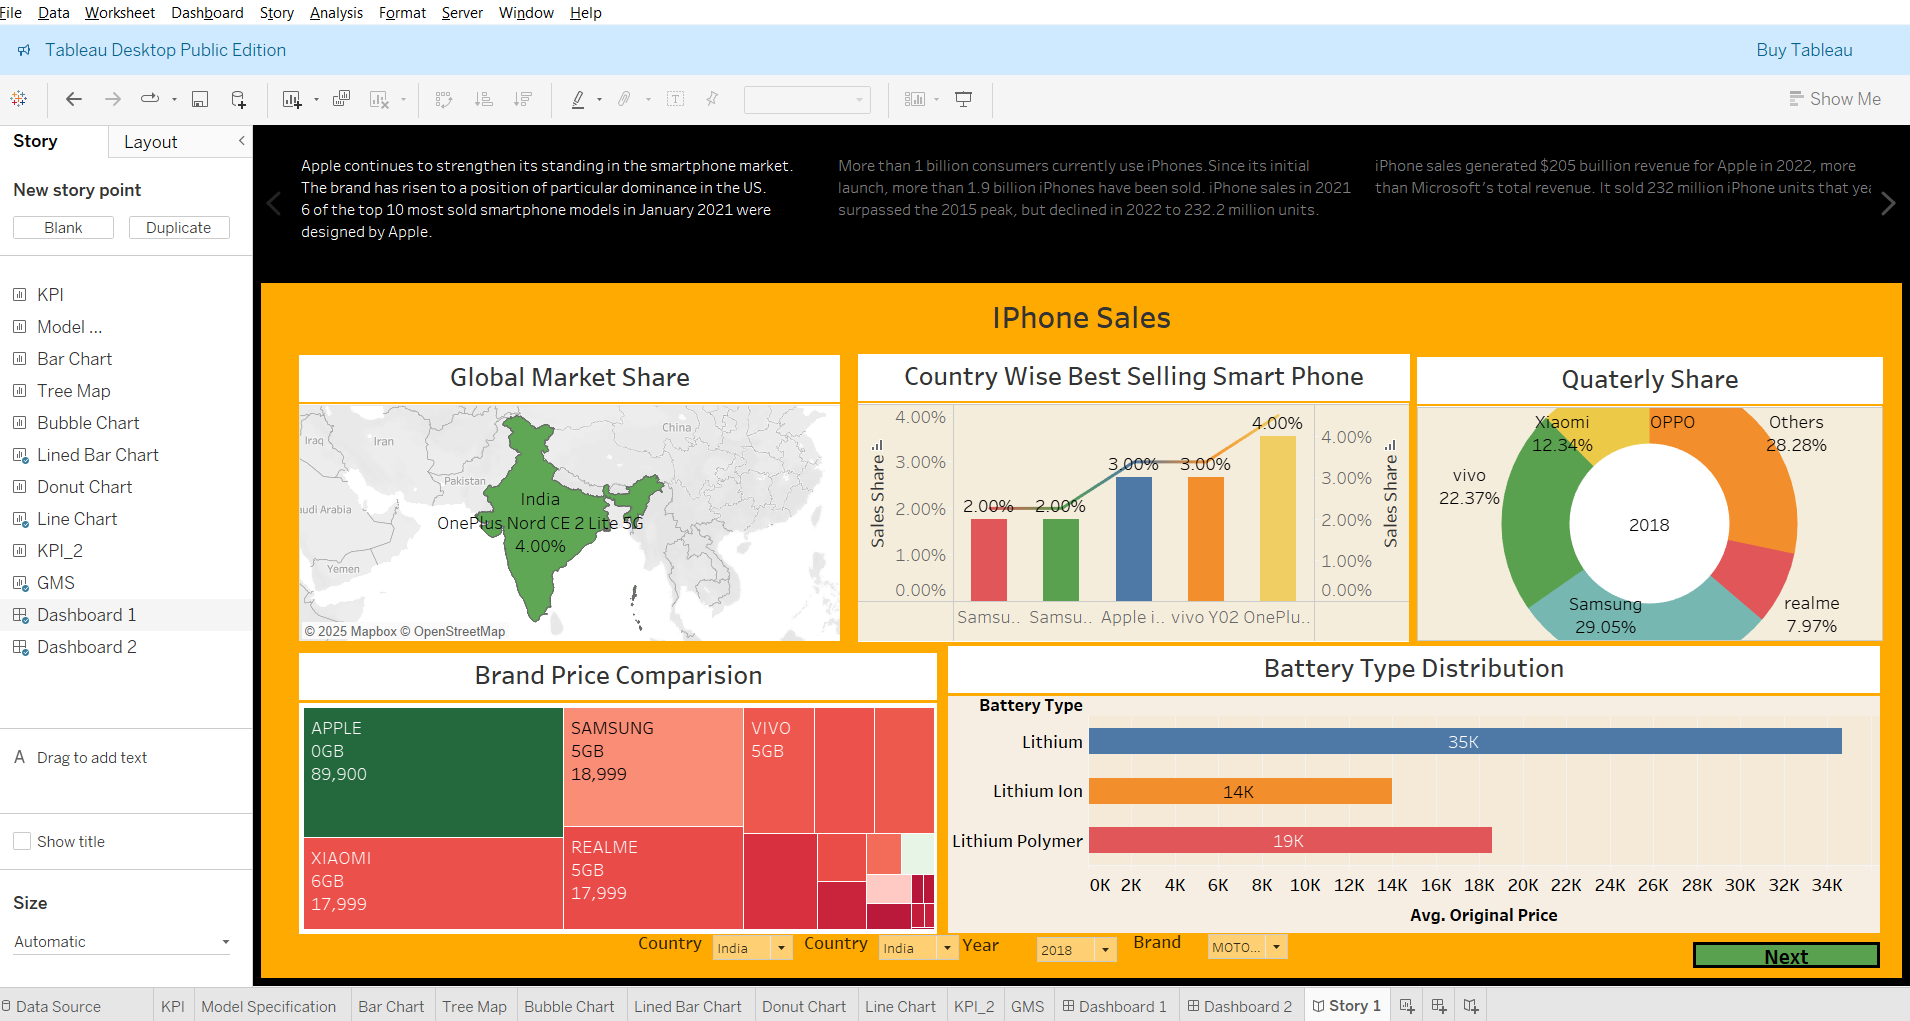

This screenshot's page, from the dashboard's own definition file:
{"tool":"tableau","page":{"name":"Dashboard 1","canvas":[1000,1000],"units":"permille","ordinal":0},"visuals":[{"type":"title","box":[4.8,9.3,990.3,56.9]},{"type":"worksheet","title":"Lined Bar Chart","mark":"Automatic","rows":["Sales Share","Sales Share"],"cols":["Models"],"box":[363.9,102.2,336.2,414.6]},{"type":"worksheet","title":"GMS","mark":"Multipolygon","box":[22.9,103.4,330.1,412.3]},{"type":"worksheet","title":"Donut Chart","mark":"Pie","rows":["Calculation_519884305654874114","Calculation_519884305654874114"],"box":[704.3,106.9,284.2,408.8]},{"type":"worksheet","title":"Bar Chart","mark":"Automatic","rows":["battery_type"],"cols":["original_price"],"box":[418.8,522.6,567.9,413.5]},{"type":"worksheet","title":"Tree Map","mark":"Automatic","box":[22.9,531.9,389.3,404.2]},{"type":"filter","title":"Bar Chart","param":"[federated.094aaop08sx3b114n80pt18ewucl].[none:brand:nk]","box":[531.1,932.6,96.6,61.6]},{"type":"filter","title":"GMS","param":"[federated.00j4bvv10q5ebl12lhm8l1cuapwc].[none:Country:nk]","box":[229.9,933.8,96.6,61.6]},{"type":"filter","title":"Lined Bar Chart","param":"[federated.00j4bvv10q5ebl12lhm8l1cuapwc].[none:Country:nk]","box":[330.7,933.8,96.6,61.6]},{"type":"filter","title":"Donut Chart","param":"[federated.1mas6ya1mhg1s7195iluz1i66xef].[none:Year:ok]","box":[427.3,936.1,96.6,61.6]},{"type":"dashboard-object","box":[872.7,948.9,114.1,37.2]}]}

Visuals, with their boxes on the dashboard's canvas, which has no fixed pixel size, in thousandths of its width and height (x1, y1, x2, y2). These are canvas units, not pixel positions in the 1910x1021 screenshot, which may show the page scaled, cropped or inside an application window:
title: 5:9:995:66
"Lined Bar Chart" worksheet: 364:102:700:517
"GMS" worksheet (Multipolygon marks): 23:103:353:516
"Donut Chart" worksheet (Pie marks): 704:107:988:516
"Bar Chart" worksheet: 419:523:987:936
"Tree Map" worksheet: 23:532:412:936
"Bar Chart" filter: 531:933:628:994
"GMS" filter: 230:934:326:995
"Lined Bar Chart" filter: 331:934:427:995
"Donut Chart" filter: 427:936:524:998
dashboard-object: 873:949:987:986
